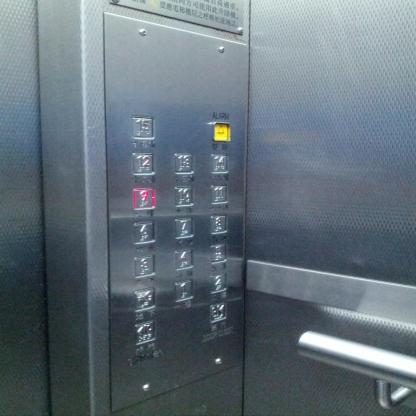1: (174, 280, 194, 304)
10: (173, 186, 194, 207)
11: (209, 185, 228, 205)
12: (132, 152, 154, 175)
13: (174, 153, 193, 174)
14: (210, 154, 228, 173)
15: (131, 116, 154, 139)
2: (209, 273, 227, 294)
3: (132, 254, 156, 278)
4: (174, 249, 192, 271)
5: (208, 243, 227, 264)
6: (132, 221, 154, 245)
7: (173, 218, 193, 240)
8: (209, 214, 227, 234)
9: (132, 187, 155, 210)
alarm: (211, 121, 232, 142)
close: (208, 302, 227, 324)
open: (133, 320, 155, 345)
sG: (132, 287, 156, 313)
